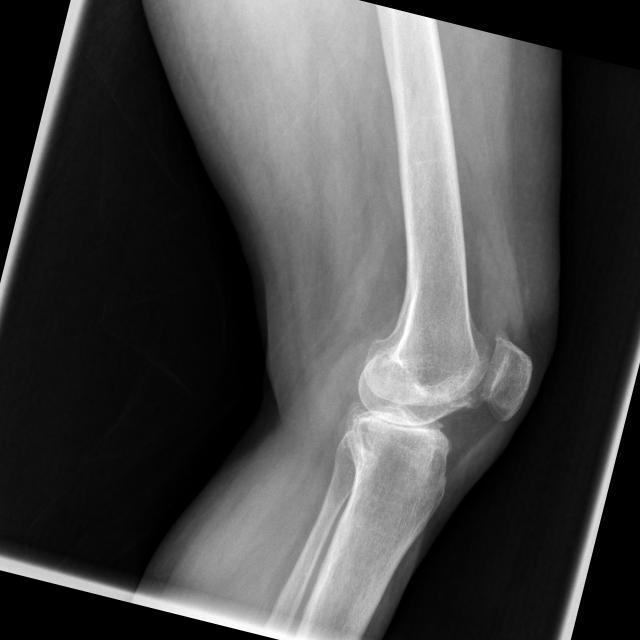Knee: (334, 300, 544, 524)
